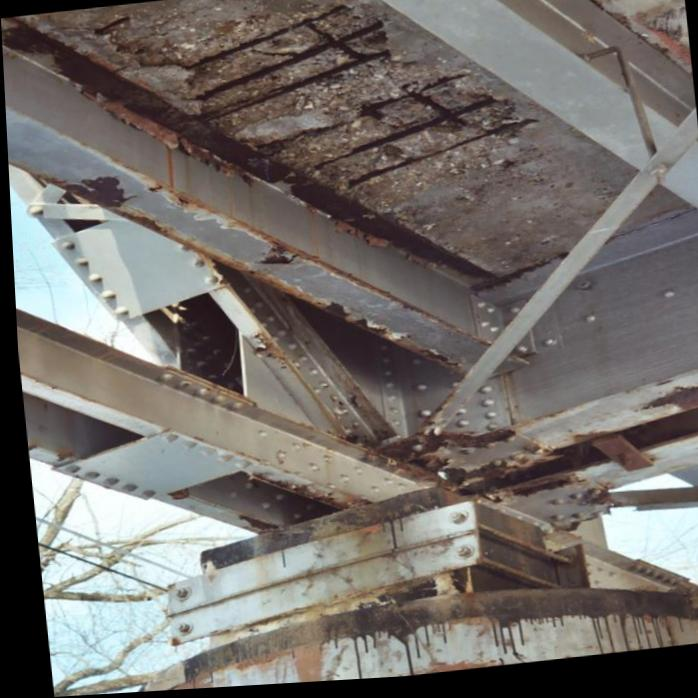damage: (78, 9, 538, 216)
